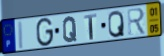G: (36, 17, 55, 48)
I: (17, 19, 25, 50)
Q: (108, 9, 126, 39), (62, 15, 78, 44)
R: (126, 6, 147, 36)
T: (83, 13, 98, 41)
